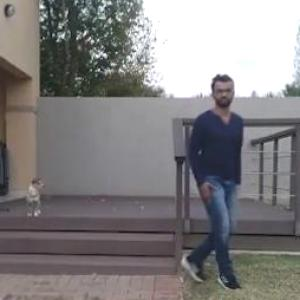follow: (175, 65, 248, 299)
